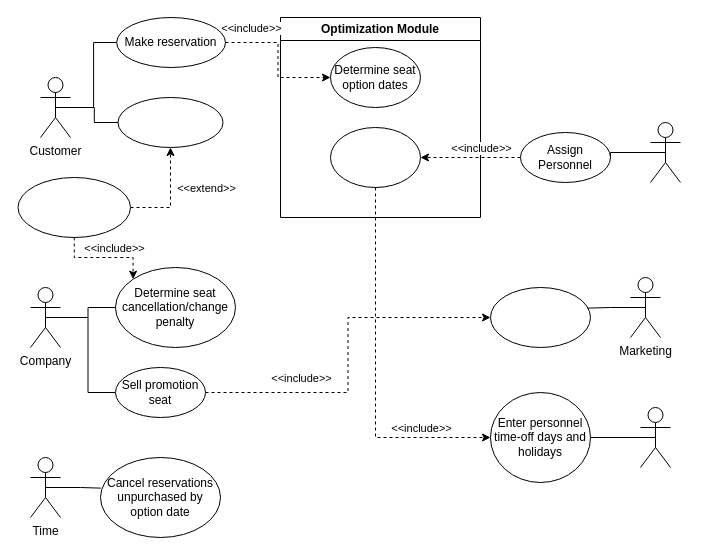
Some shapes in this 722 by 556 pixel diagram are drawn without their labels. The shapes that lost their labels are listed below. From the top down, each one's centre as x and y in pixels, then its label:
At pixel 170 122: "Purchase ticket".
At pixel 375 157: "Determine available personnel".
At pixel 665 152: "Operations".
At pixel 73 207: "Change/Cancel reservation for flexible tickets".
At pixel 540 317: "Offer promotion seats/prices".
At pixel 655 437: "Human Resources".
